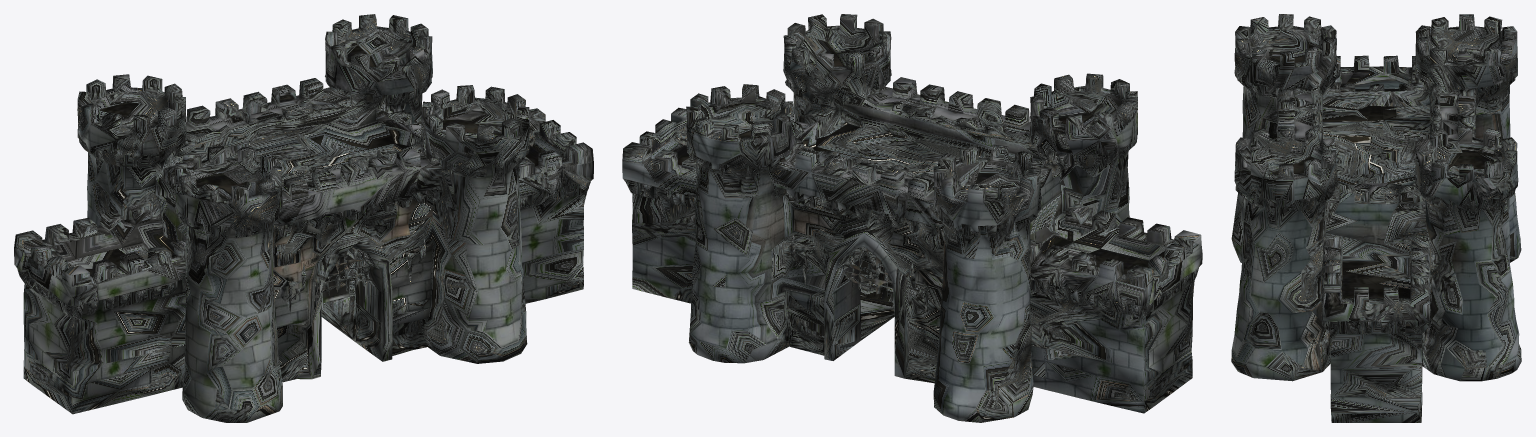
Rendered from gatehouse.glb.
The picture shows the model from 3 angles, left to right: view 1: azimuth 30°, elevation 25°; view 2: azimuth 150°, elevation 25°; view 3: azimuth 270°, elevation 25°; orthographic projection. The views are drawn at different scales.
Visible parts, largest first — view 1: gatehouse; view 2: gatehouse; view 3: gatehouse.
Boxes of the visible parts, x1,y1,x2,y2 form: gatehouse: [14, 14, 593, 422]; gatehouse: [622, 14, 1202, 422]; gatehouse: [1231, 14, 1521, 422].
Size of the model in its own units: 2 by 0.8505 by 1.03.
Materials: 1 (1 with a texture image).
